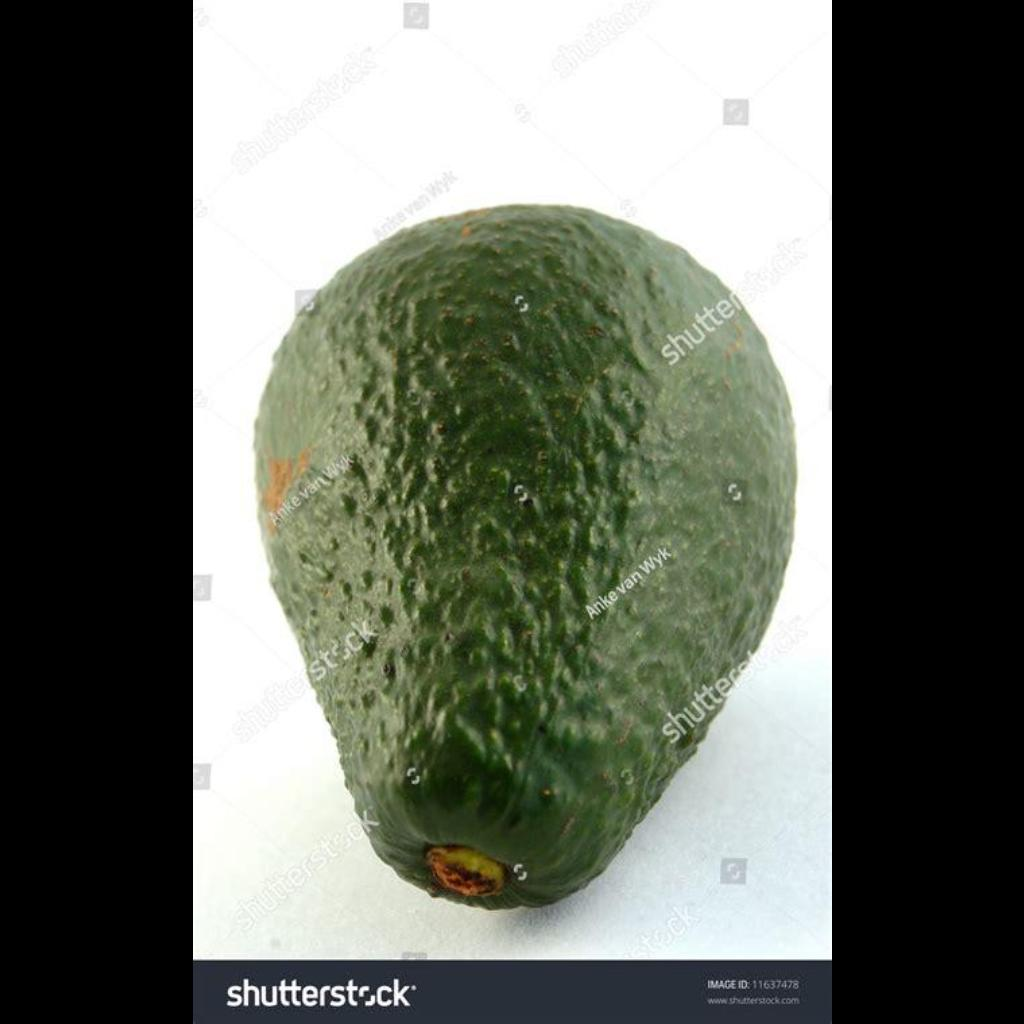Healthy: (231, 202, 799, 912)
